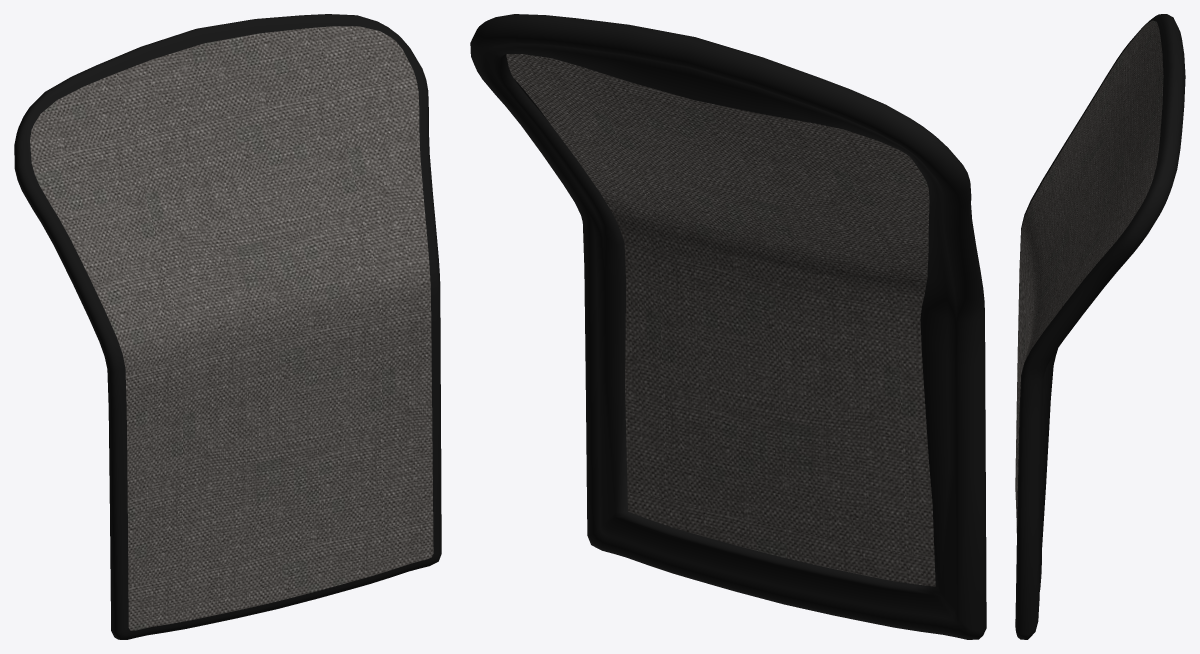
The picture shows the model from 3 angles, left to right: view 1: azimuth 30°, elevation 25°; view 2: azimuth 150°, elevation 25°; view 3: azimuth 270°, elevation 25°; orthographic projection. The views are drawn at different scales.
Visible parts, largest first — view 1: part3:backrest 1; view 2: part3:backrest 1; view 3: part3:backrest 1.
Part boxes in pixels (box(x1,y1,x2,y2)): part3:backrest 1: box(14, 14, 441, 639); part3:backrest 1: box(470, 14, 986, 639); part3:backrest 1: box(1015, 14, 1185, 639).
Size of the model in its own units: 0.4705 by 0.5802 by 0.1764.
Materials: 2 (1 with a texture image).
